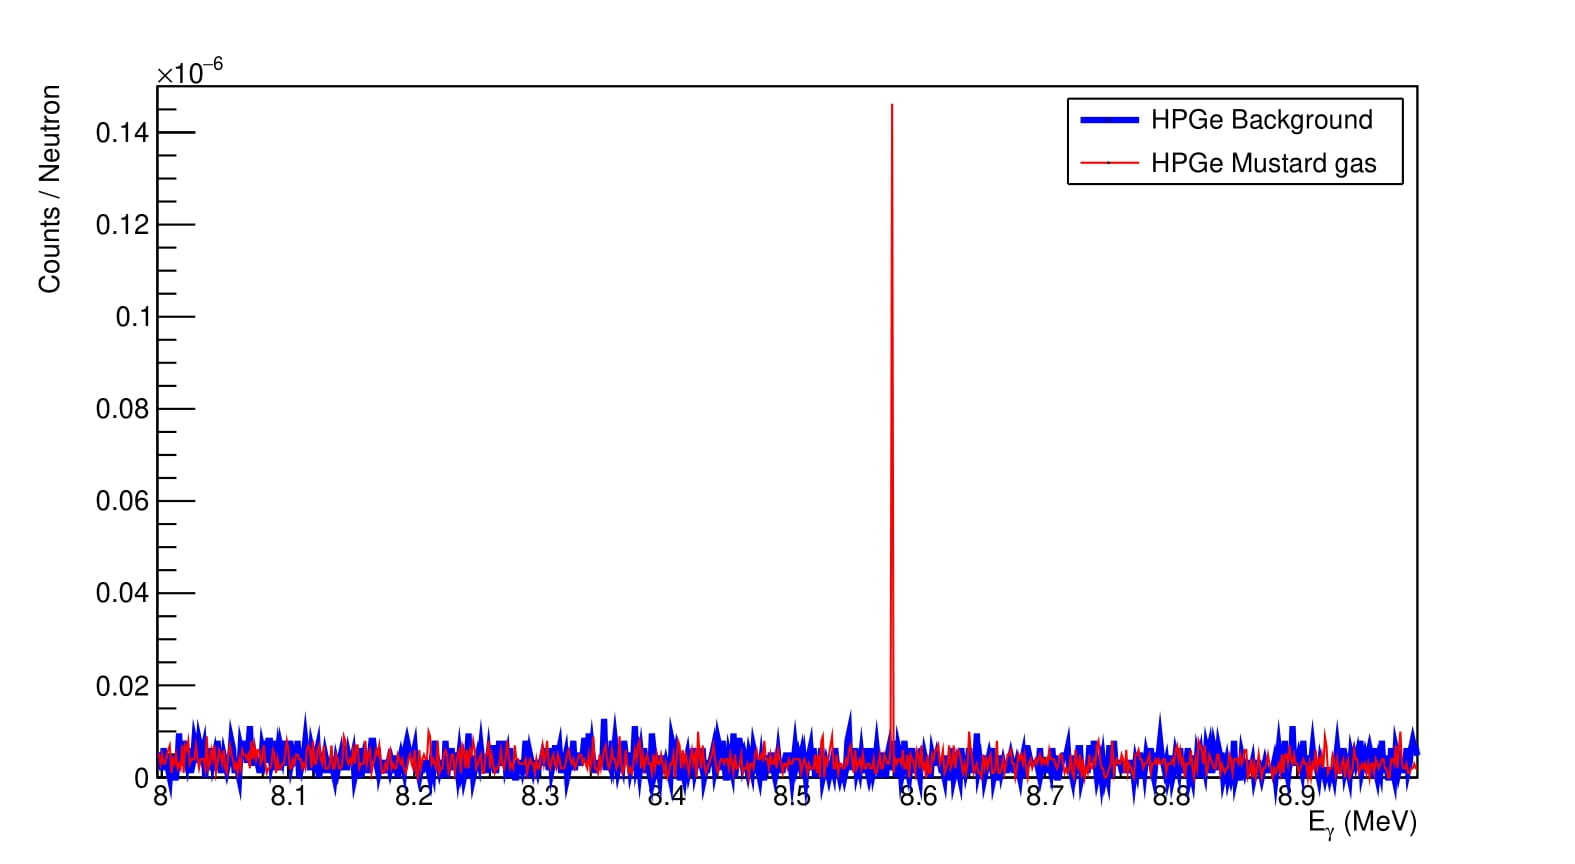gauss: (874, 105, 917, 775)
other: (177, 711, 859, 790), (931, 719, 1414, 779)
